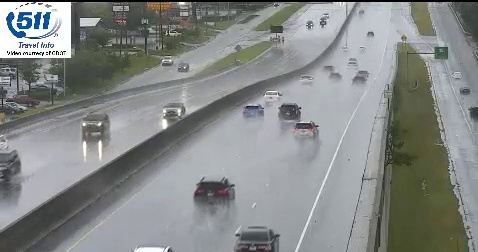car: (235, 226, 280, 252), (194, 177, 234, 206), (294, 121, 318, 139), (278, 103, 300, 121), (242, 104, 264, 119), (262, 90, 280, 105)
